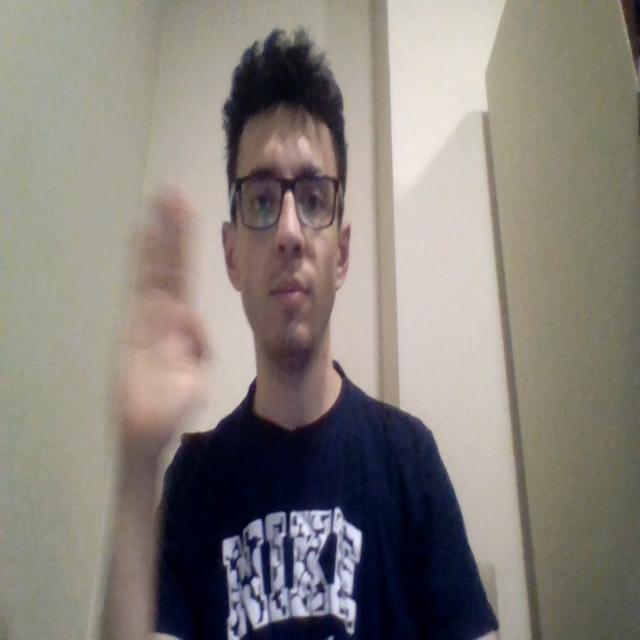hello: (113, 183, 215, 458)
